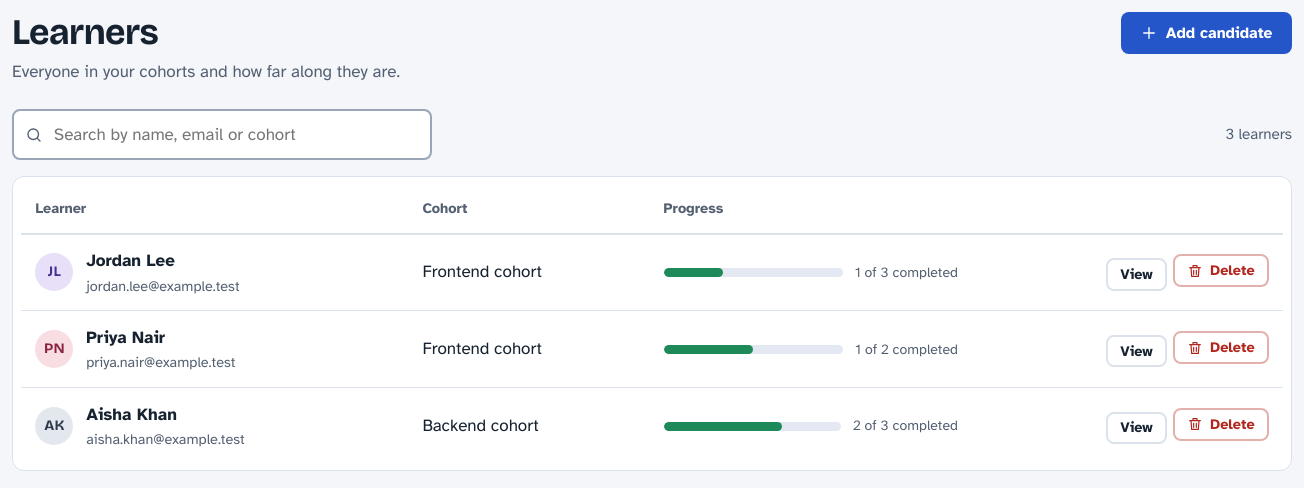
Test: searching learners › filters by name as the user types and reports the count
The image size is (1304, 488).
Expected: the text "Jordan Lee" is shown, [86, 250, 175, 271]
Type "priya" into the search field named "Search learners".
click(222, 135); type("priya")  # box [12, 109, 432, 160]
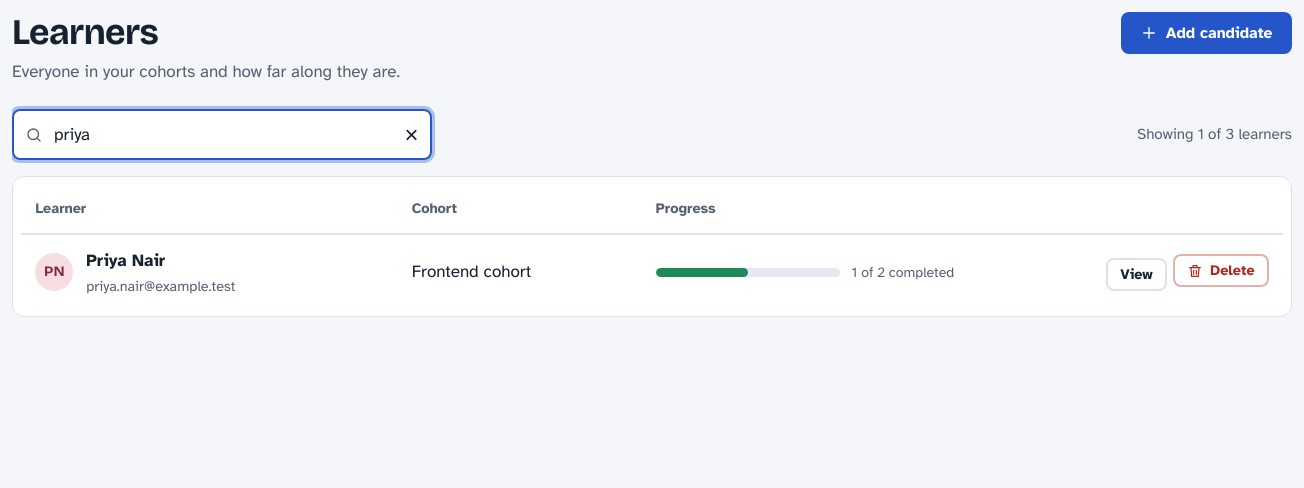
Expected: the text "Priya Nair" is shown, [86, 250, 165, 271]
Result: the text "Jordan Lee" is gone
Result: the text "Showing 1 of 3 learners" is shown at [1137, 123, 1292, 147]
